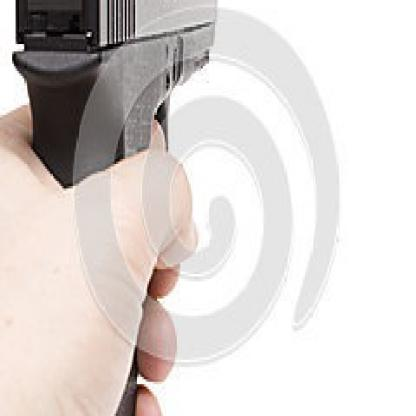gun: (9, 0, 220, 414)
